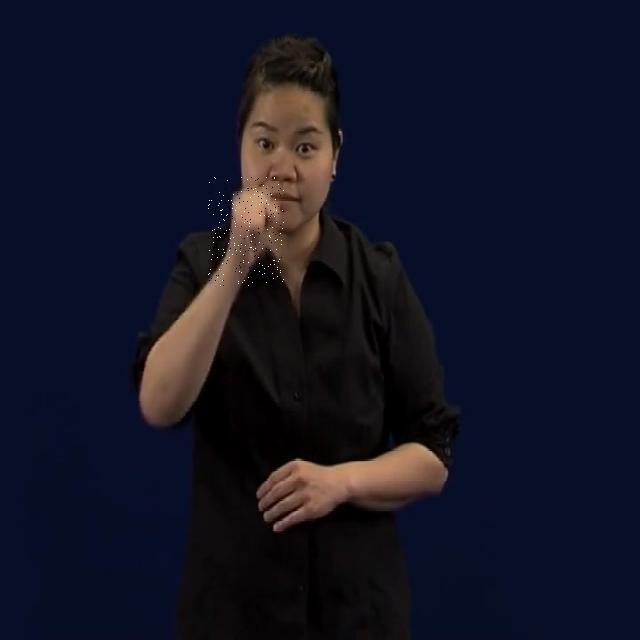icecream: (208, 176, 284, 286)
